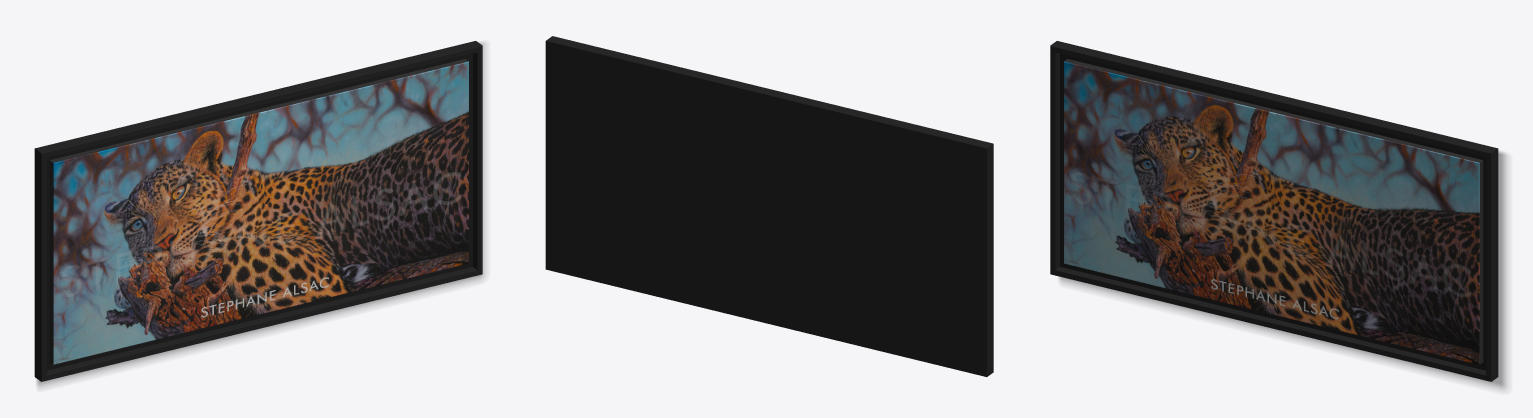
File: tableau-leopard-arbre-grand-d23cb308.glb
3 views of the same model, side by side, from view 1: azimuth 30°, elevation 25°; view 2: azimuth 150°, elevation 25°; view 3: azimuth 330°, elevation 25° (orthographic).
Visible parts, largest first — view 1: Painting; view 2: Painting; view 3: Painting.
Part boxes in pixels (x1,y1,x2,y2): Painting: [34, 41, 484, 386]; Painting: [545, 36, 993, 376]; Painting: [1050, 41, 1506, 389].
Bounding box in the file's own units: 1.63 × 0.876 × 0.04.
5 materials, 3 textured.
